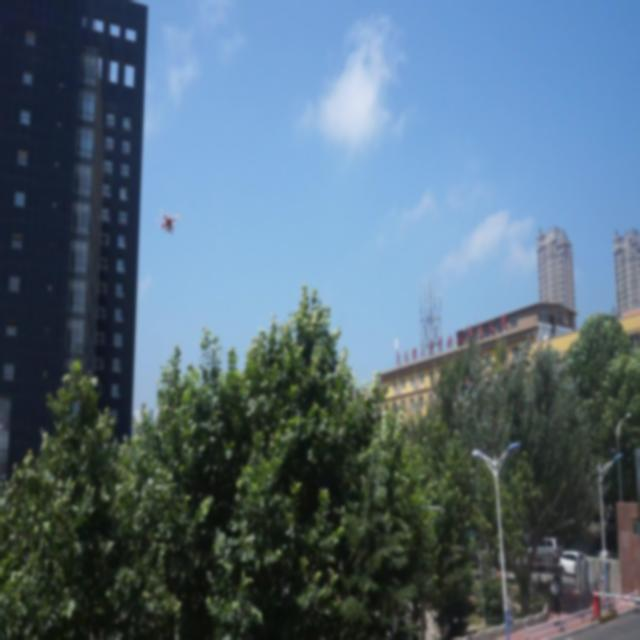UAV: (154, 209, 182, 235)
